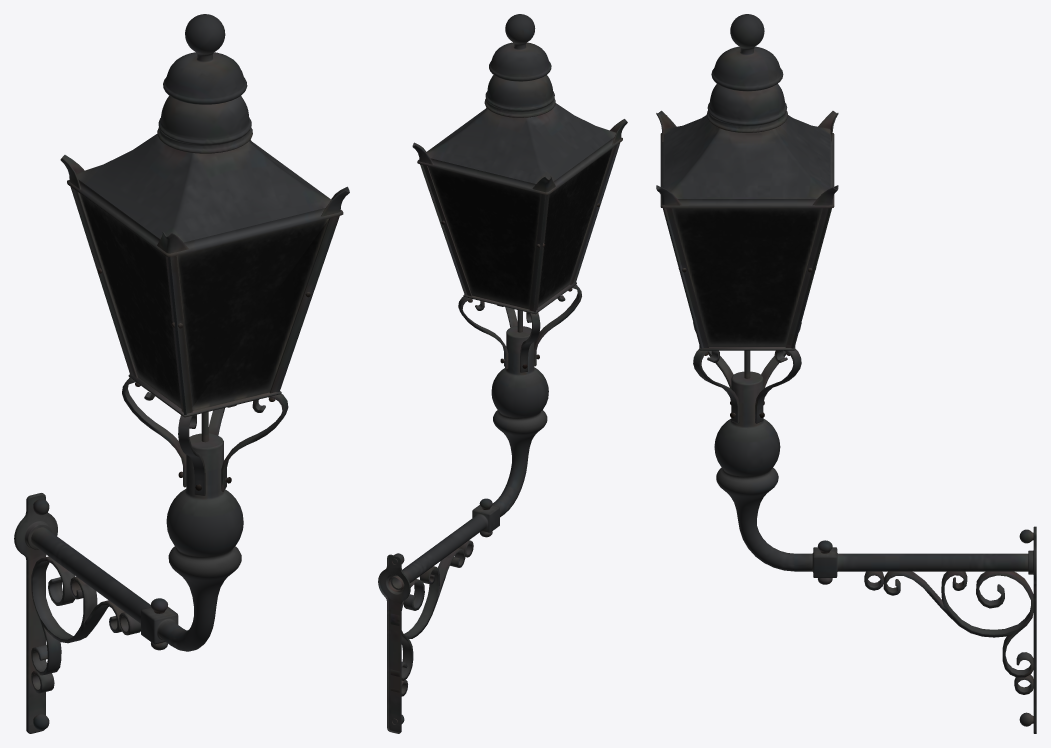
File: street_lamp_02.glb
3 renders of one model, left to right at view 1: azimuth 30°, elevation 25°; view 2: azimuth 150°, elevation 25°; view 3: azimuth 270°, elevation 25°, orthographic. The views are drawn at different scales.
Visible parts, largest first — view 1: street_lamp_02; view 2: street_lamp_02; view 3: street_lamp_02.
Boxes of the visible parts, <box> form: street_lamp_02: <box>14,14,349,733</box>; street_lamp_02: <box>378,14,627,733</box>; street_lamp_02: <box>656,14,1036,733</box>.
Bounding box in the file's own units: 0.3865 × 1.68 × 0.8068.
Materials: 3 (3 with a texture image).
